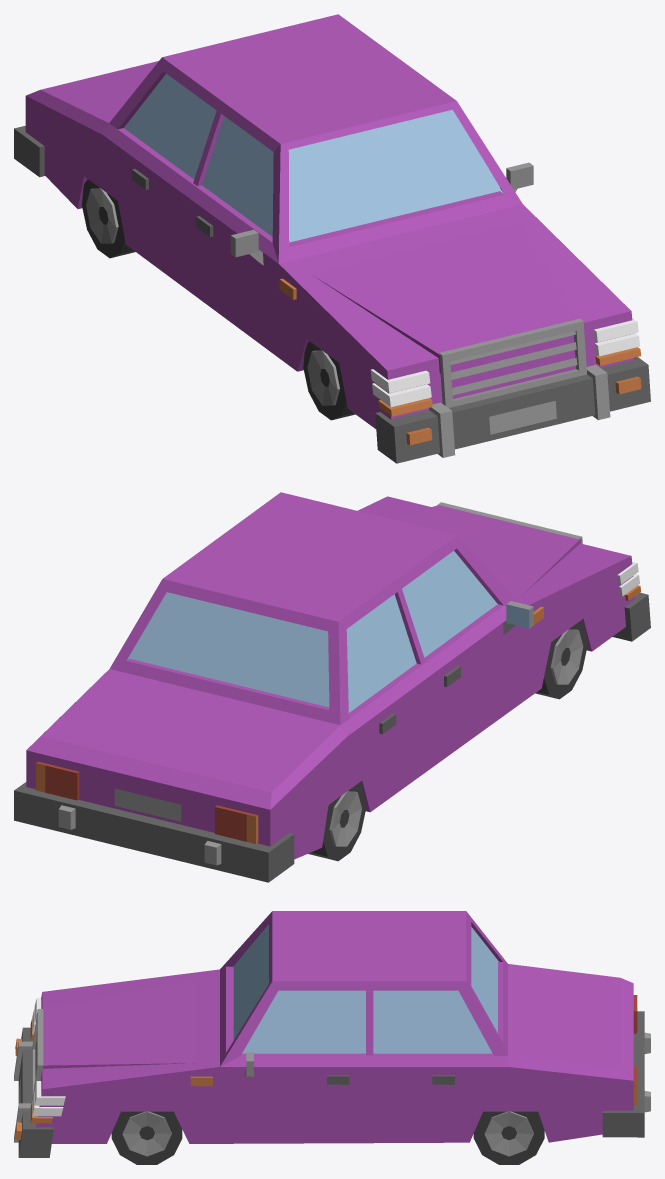
Rendered from transport_cool_004.glb.
3 views of the same model, one above another, from view 1: azimuth 30°, elevation 25°; view 2: azimuth 150°, elevation 25°; view 3: azimuth 270°, elevation 25° (orthographic). The views are drawn at different scales.
Parts seen in each view (by area): view 1: transport_cool_004; view 2: transport_cool_004; view 3: transport_cool_004.
Part boxes in pixels (bbox=[...]): transport_cool_004: bbox=[14, 14, 650, 463]; transport_cool_004: bbox=[14, 492, 650, 882]; transport_cool_004: bbox=[14, 911, 650, 1164].
Size of the model in its own units: 1.48 by 0.9874 by 3.34.
1 material, 1 textured.
